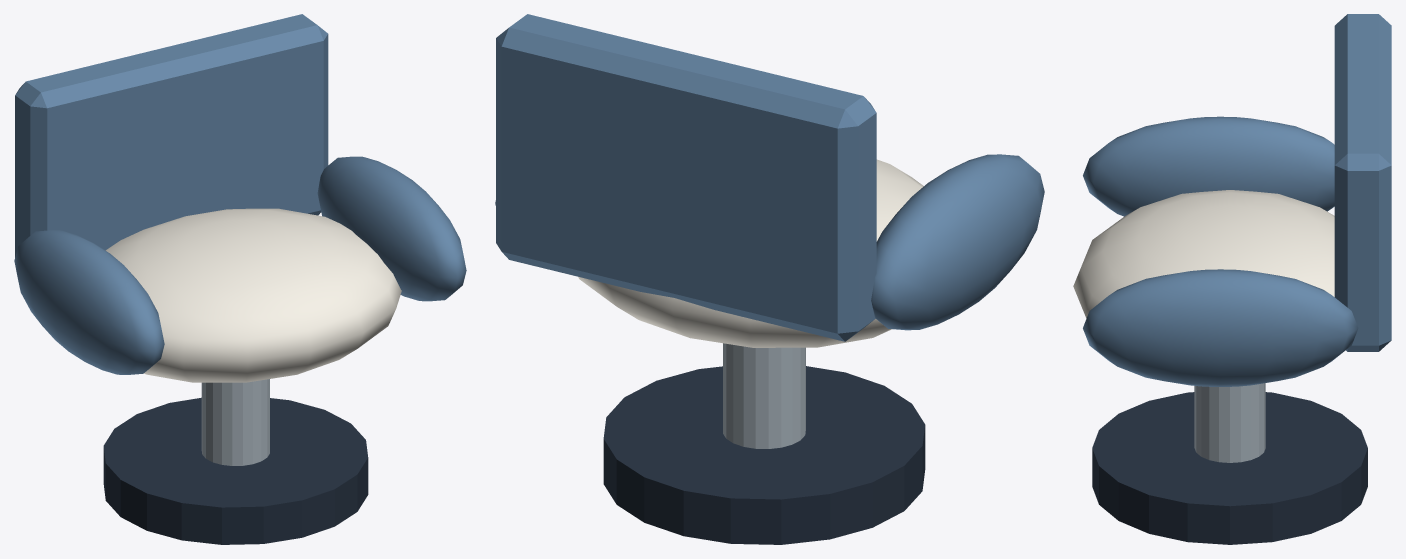
Rendered from living_02.glb.
The picture shows the model from 3 angles, left to right: view 1: azimuth 30°, elevation 25°; view 2: azimuth 150°, elevation 25°; view 3: azimuth 270°, elevation 25°; orthographic projection. The views are drawn at different scales.
Visible parts, largest first — view 1: Back, Seat, Pedestal, SoftArm (×2), Stem; view 2: Back, Pedestal, SoftArm, Seat, Stem; view 3: SoftArm (×2), Pedestal, Seat, Back, Stem.
Boxes of the visible parts, x1,y1,x2,y2 form: Back: [15, 14, 328, 257]; Seat: [105, 208, 401, 382]; Pedestal: [103, 397, 368, 544]; SoftArm (×2): [14, 156, 466, 374]; Stem: [201, 379, 269, 465]; Back: [496, 14, 876, 341]; Pedestal: [603, 366, 925, 544]; SoftArm: [871, 154, 1044, 330]; Seat: [578, 159, 923, 347]; Stem: [723, 343, 805, 448]; SoftArm (×2): [1083, 116, 1358, 386]; Pedestal: [1092, 392, 1367, 544]; Seat: [1073, 190, 1334, 318]; Back: [1334, 14, 1391, 351]; Stem: [1194, 383, 1265, 462].
Size of the model in its own units: 0.94 by 0.935 by 0.67.
